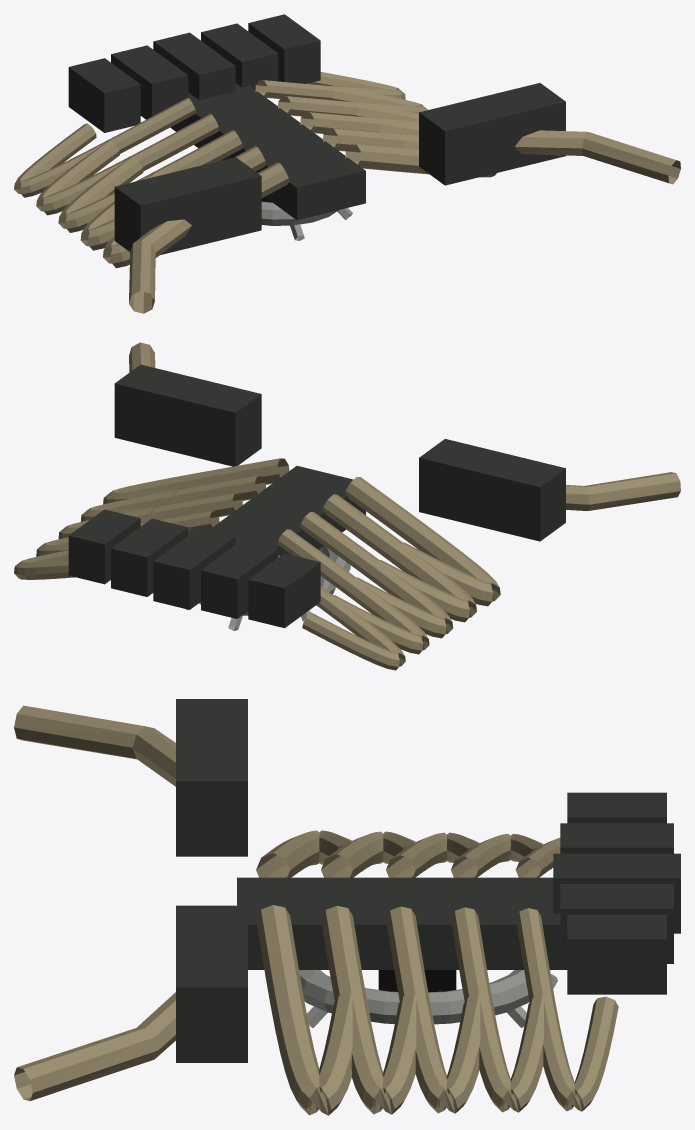
3 renders of one model, top to bottom at view 1: azimuth 30°, elevation 25°; view 2: azimuth 150°, elevation 25°; view 3: azimuth 270°, elevation 25°, orthographic. The views are drawn at different scales.
Size of the model in its own units: 1.6 by 0.3113 by 1.2.
